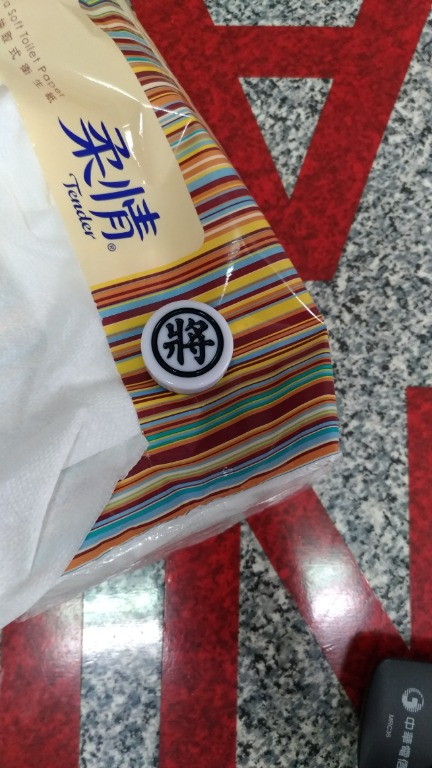b-king: (136, 282, 260, 406)
